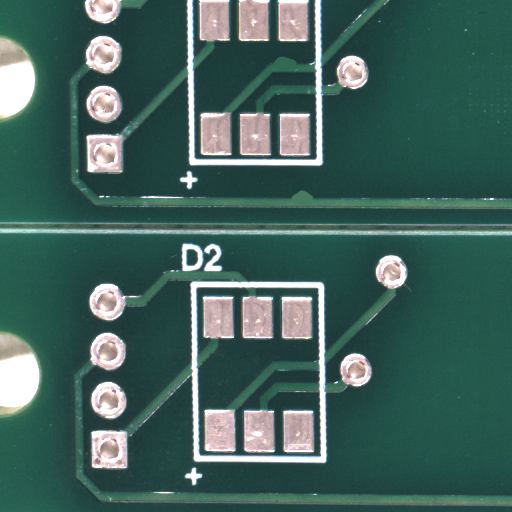Spur: (286, 60, 315, 73), (299, 194, 326, 205)
